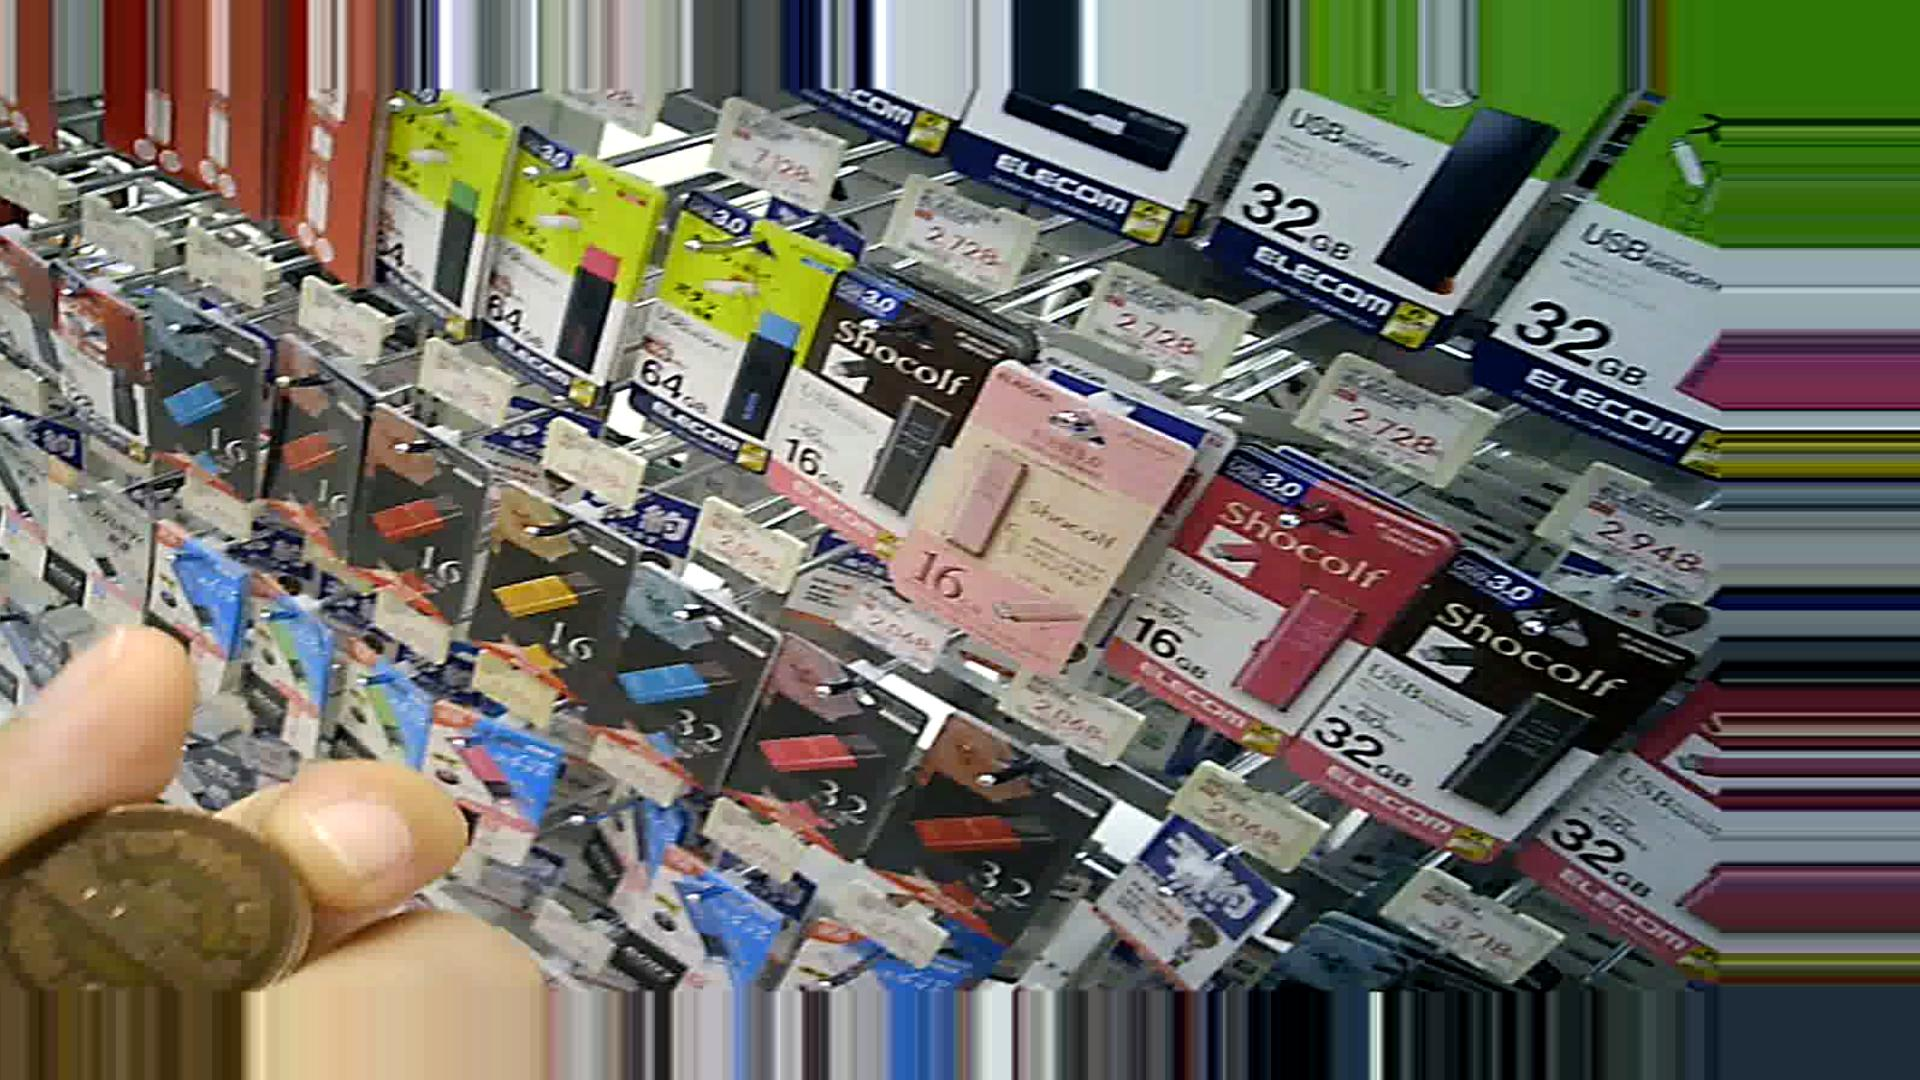10 Yen: (8, 804, 324, 1000)
